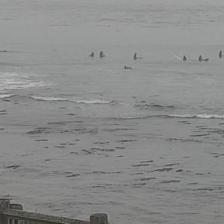surfer: (99, 50, 105, 58), (123, 65, 132, 70), (89, 51, 94, 57), (218, 51, 222, 58), (134, 53, 138, 60), (198, 55, 202, 61), (183, 55, 187, 61), (1, 48, 7, 52)
